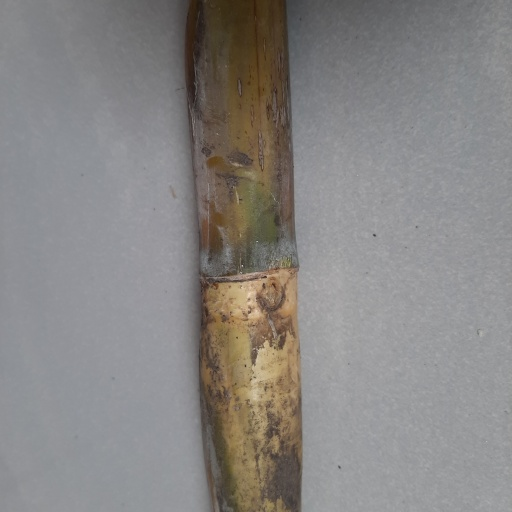Damage_Bud: (258, 279, 284, 312)
